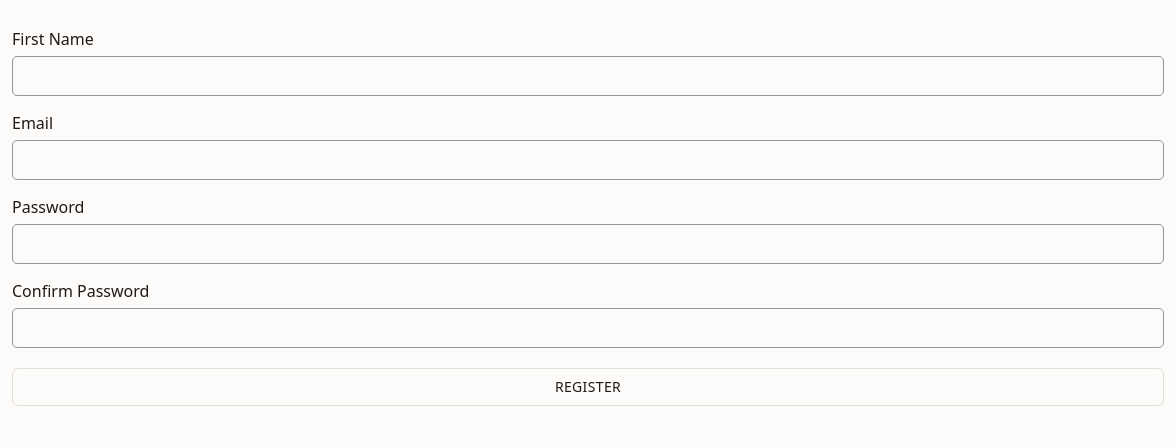
Test case: FormComponent › refuses when the two passwords differ
The image size is (1176, 447).
Type "Ada" into the field labelled "First Name" at (588, 76), box x1=12 y1=56 x2=1164 y2=96
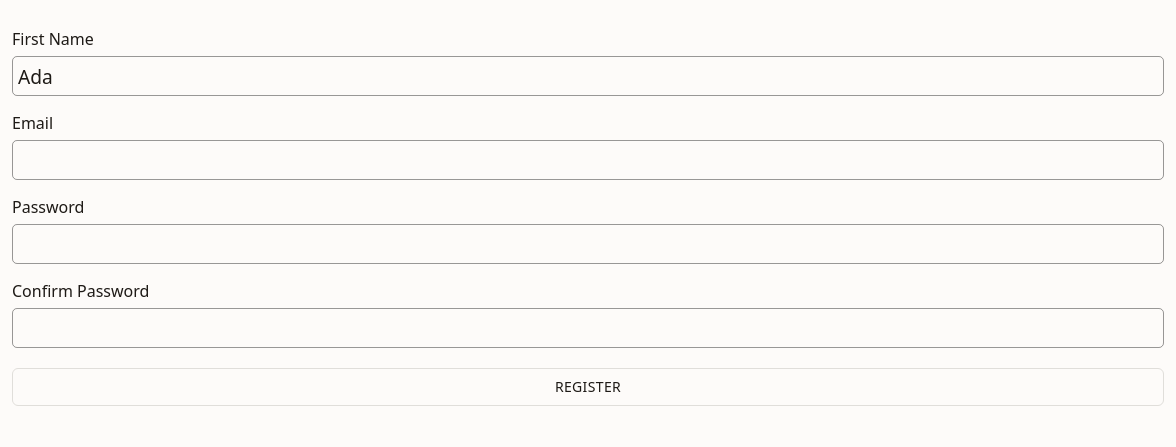
Type "ada@example.test" into the field labelled "Email" at (588, 160), box x1=12 y1=140 x2=1164 y2=180
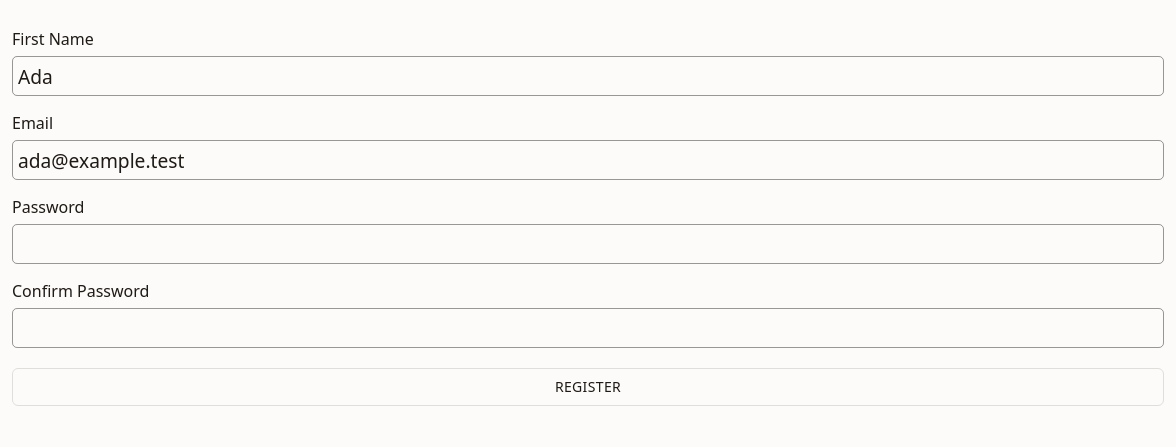
Type "one" into the password field labelled "Password" at (588, 244), box x1=12 y1=224 x2=1164 y2=264
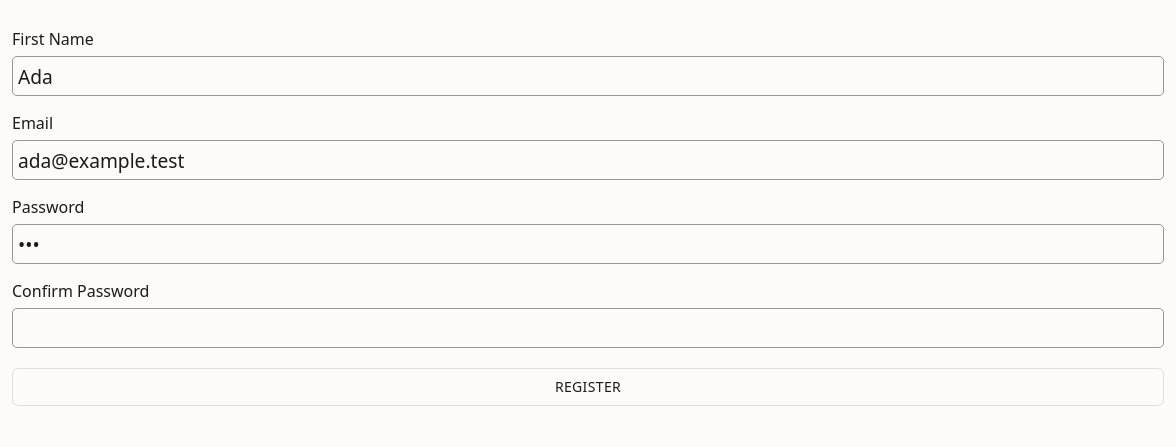
Type "two" into the password field labelled "Confirm Password" at (588, 328), box x1=12 y1=308 x2=1164 y2=348
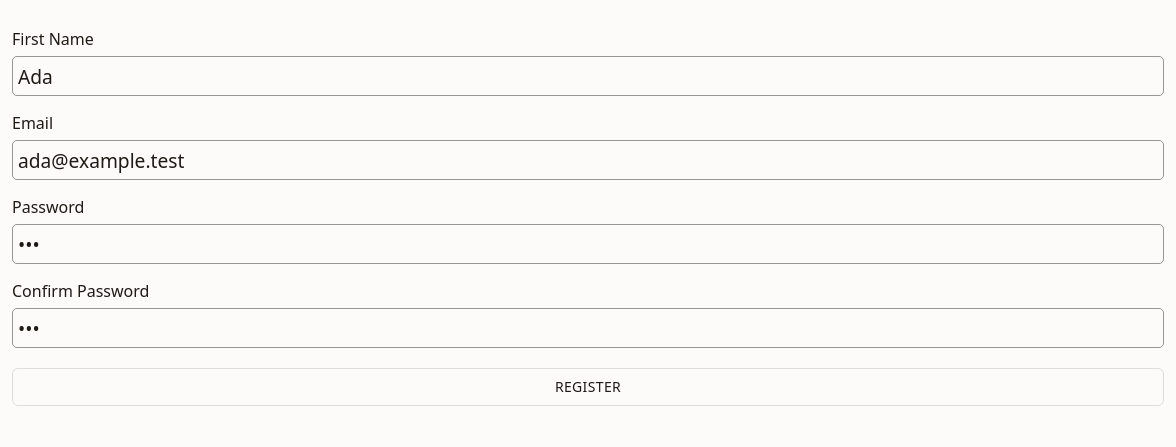
Click the button "Register" at (588, 387), box x1=12 y1=368 x2=1164 y2=406
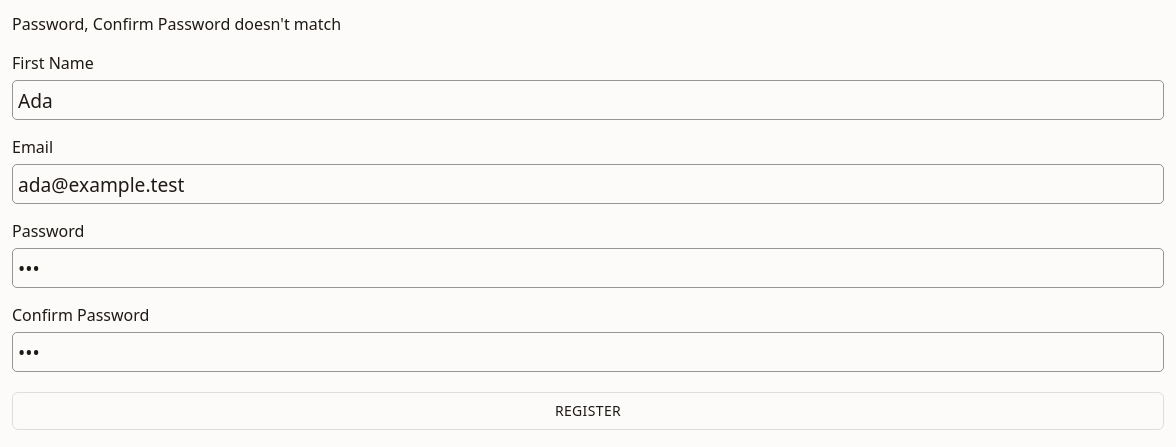
Expected: the list item "Password, Confirm Password doesn't match" is shown, x1=12 y1=13 x2=341 y2=35
